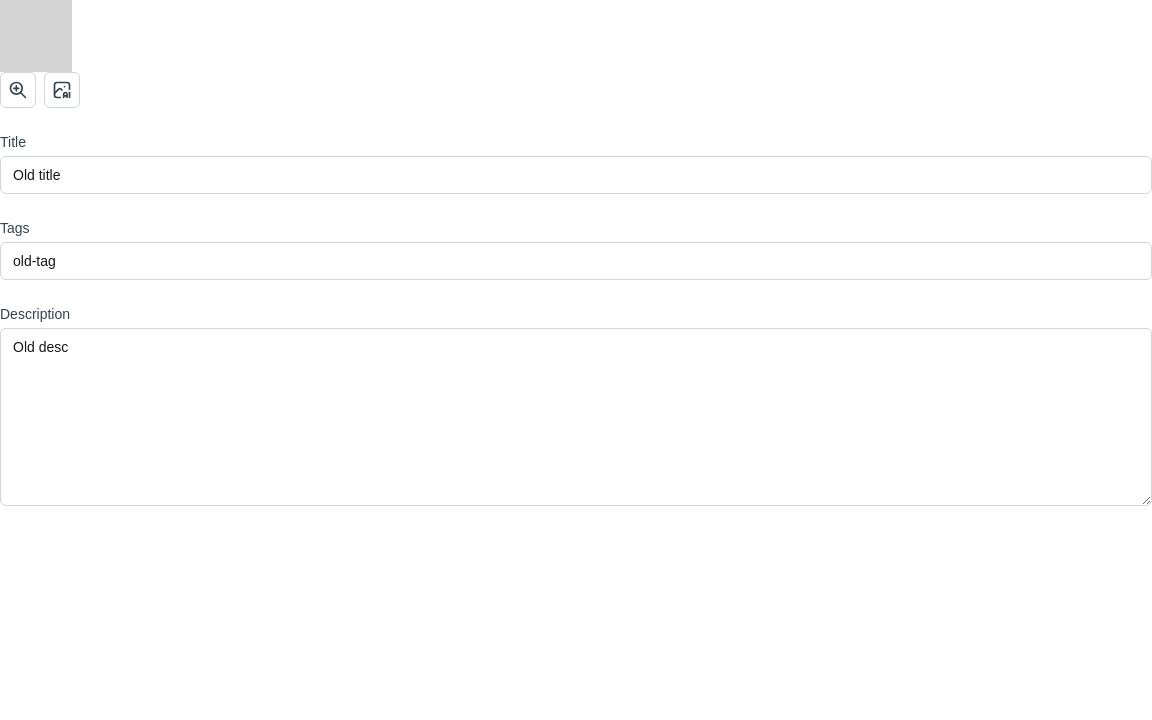
ImageAiMetaSection › 确认后覆盖标题、描述与标签且不 submit
Click the button named "AI recognize": (62, 90) [44, 72, 80, 108]
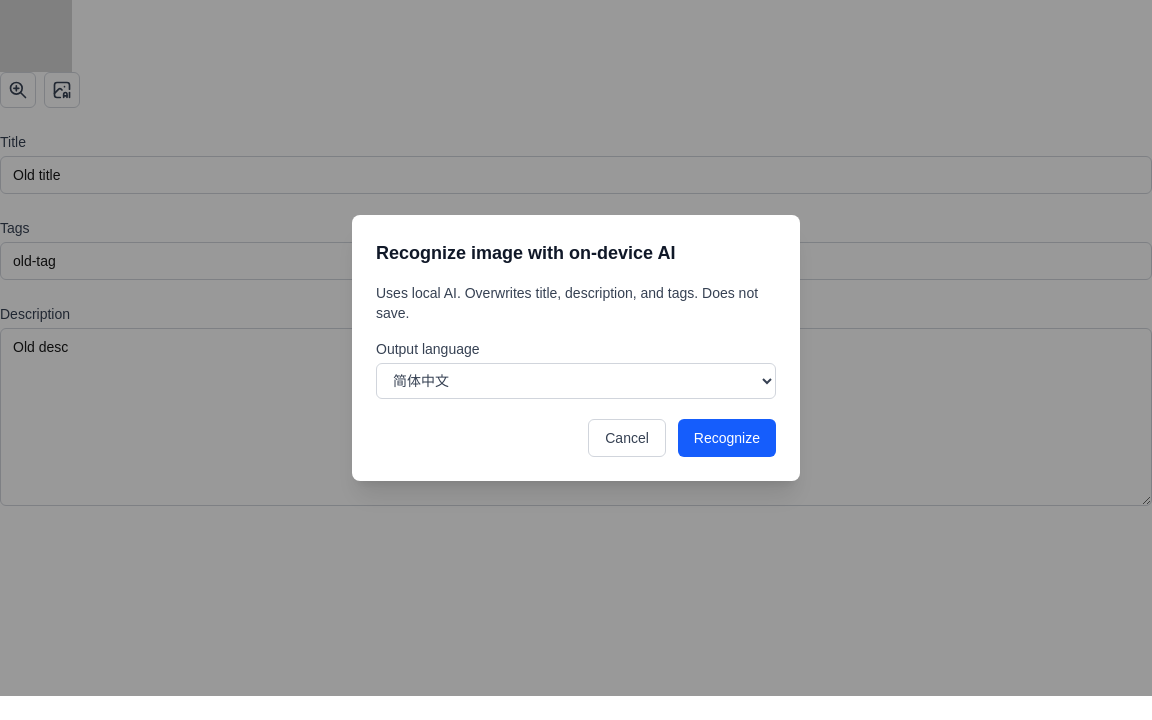
Select "English" in the dropdown labelled "Output language": (576, 381) [376, 363, 776, 399]
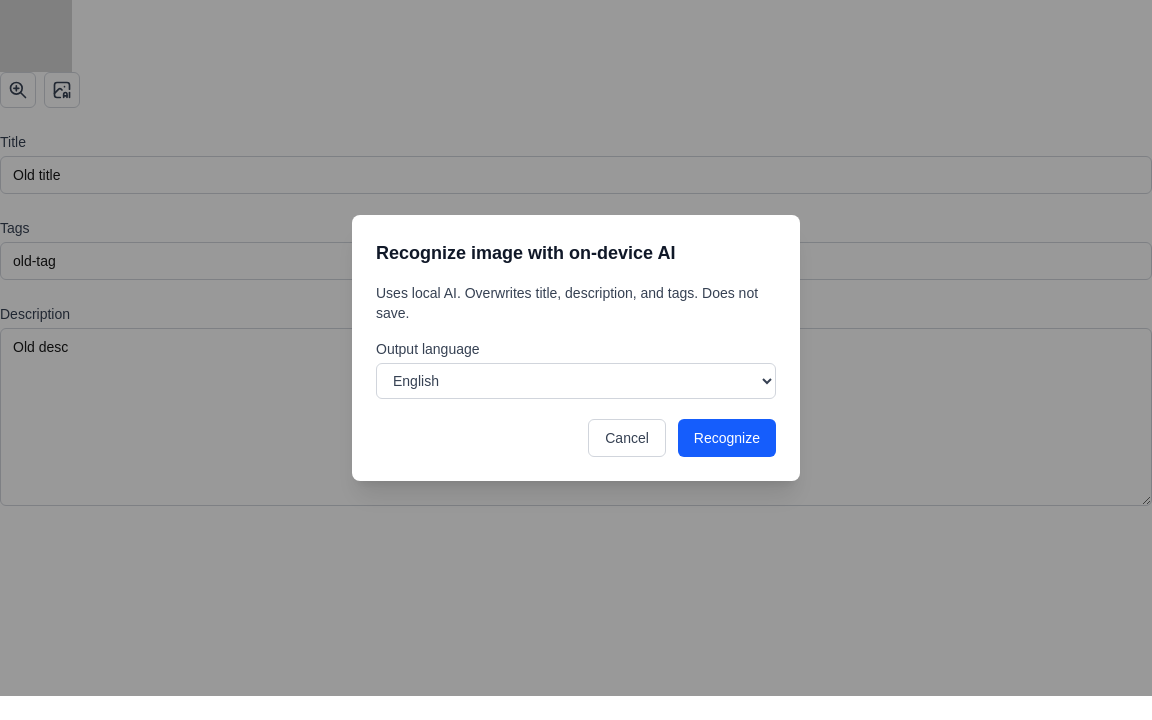
Click the button "Recognize": (727, 438) [678, 419, 776, 457]
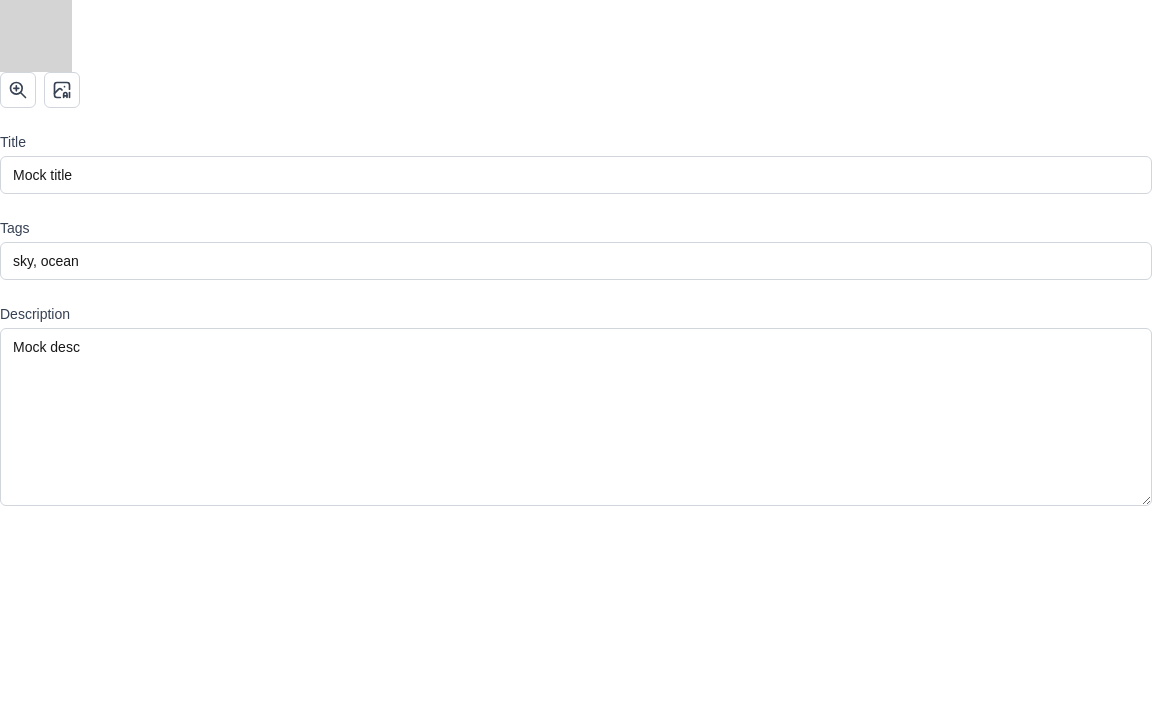
Expected: the field showing "Mock title" below "Title" is shown, [0, 156, 1151, 194]
Expected: the text box showing "Mock desc" is shown, [0, 328, 1151, 506]
Expected: the field showing "sky, ocean" below "Tags" is shown, [0, 242, 1151, 280]
